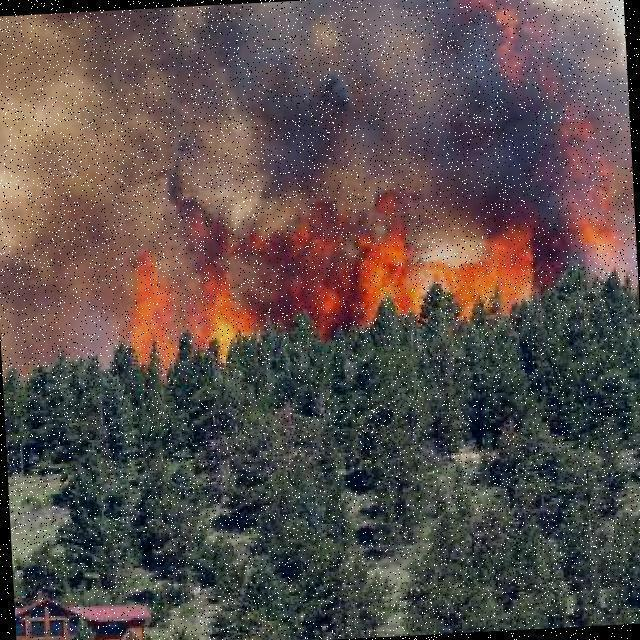Fire: (120, 218, 532, 338), (554, 107, 620, 266)
Smoke: (0, 12, 623, 231)
